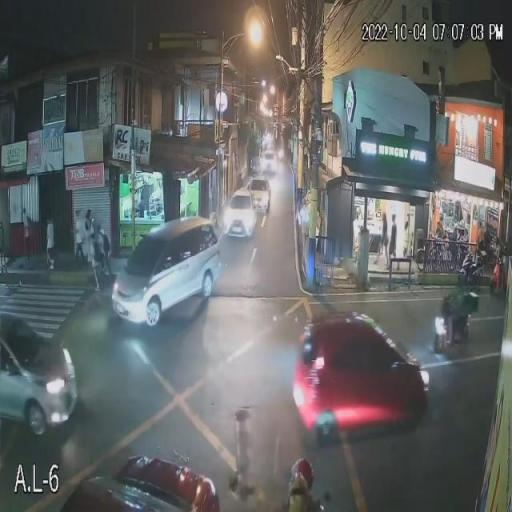helmet: (287, 455, 317, 498), (454, 270, 470, 290)
motorcycle: (430, 311, 476, 349)
rider: (442, 263, 472, 336)
